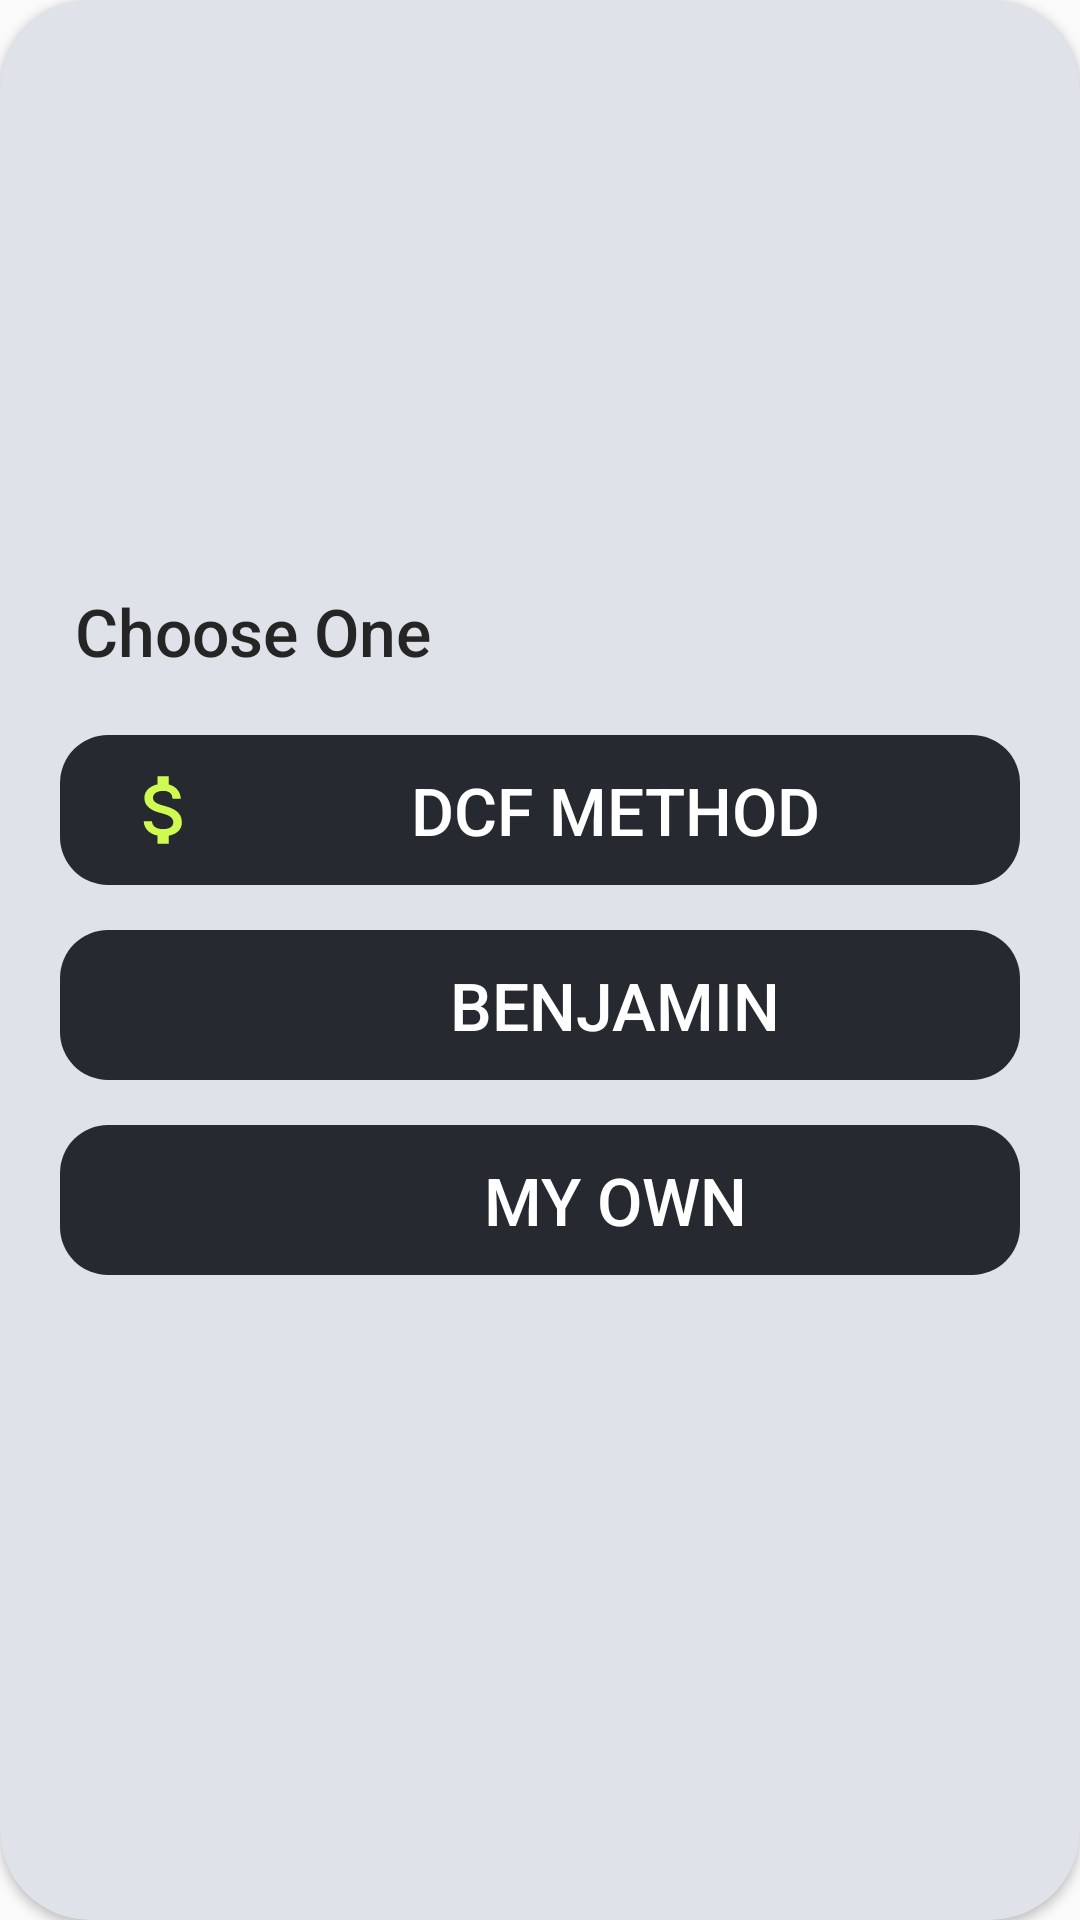

Screen size 1080 × 1920. Icon name, then its center in pixels as point (x, y):
attach money: point (162, 810)
